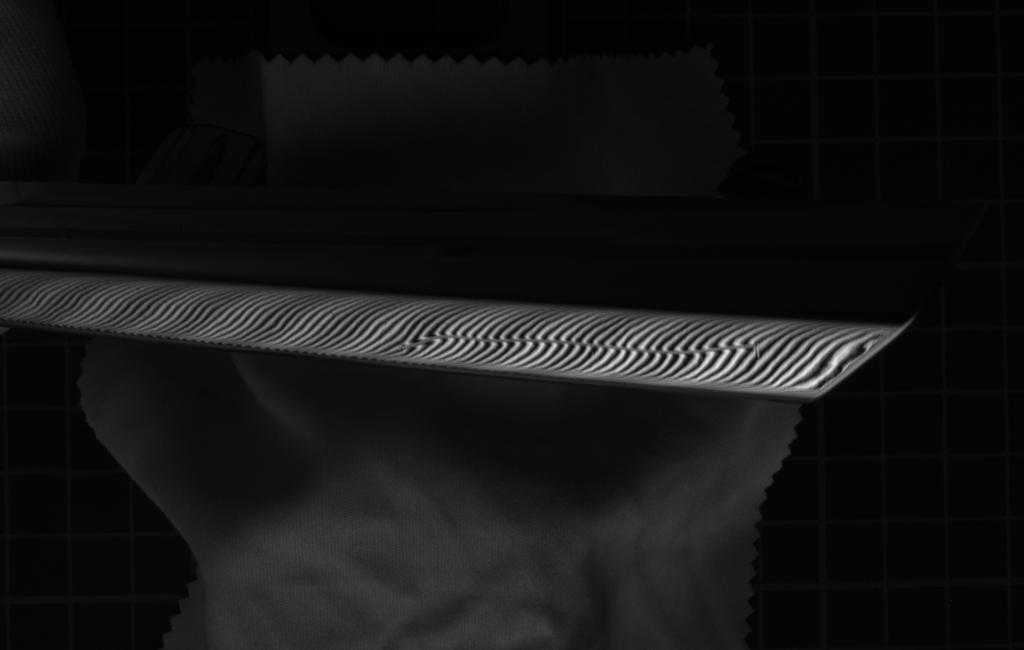Scratch: (385, 326, 786, 356)
